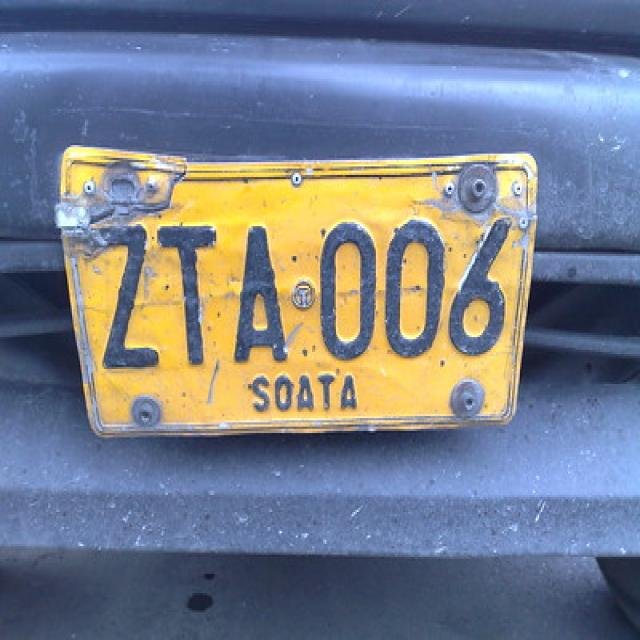placa_carro: (42, 117, 572, 494)
